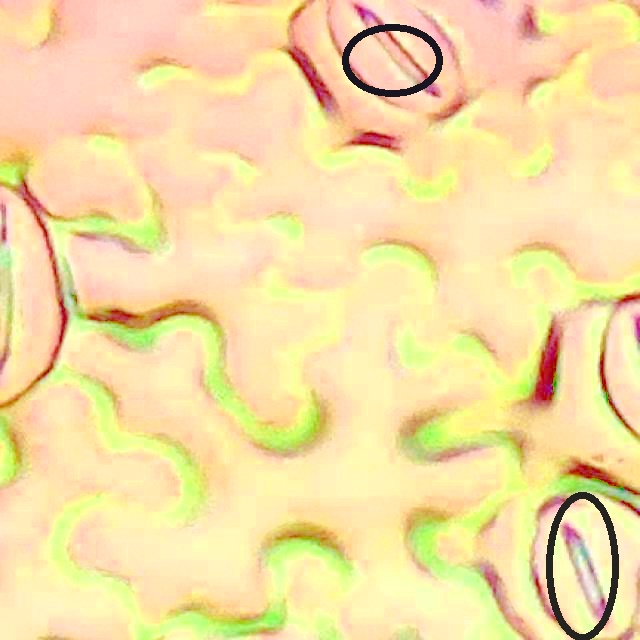open: (546, 492, 618, 639), (342, 24, 443, 97)
